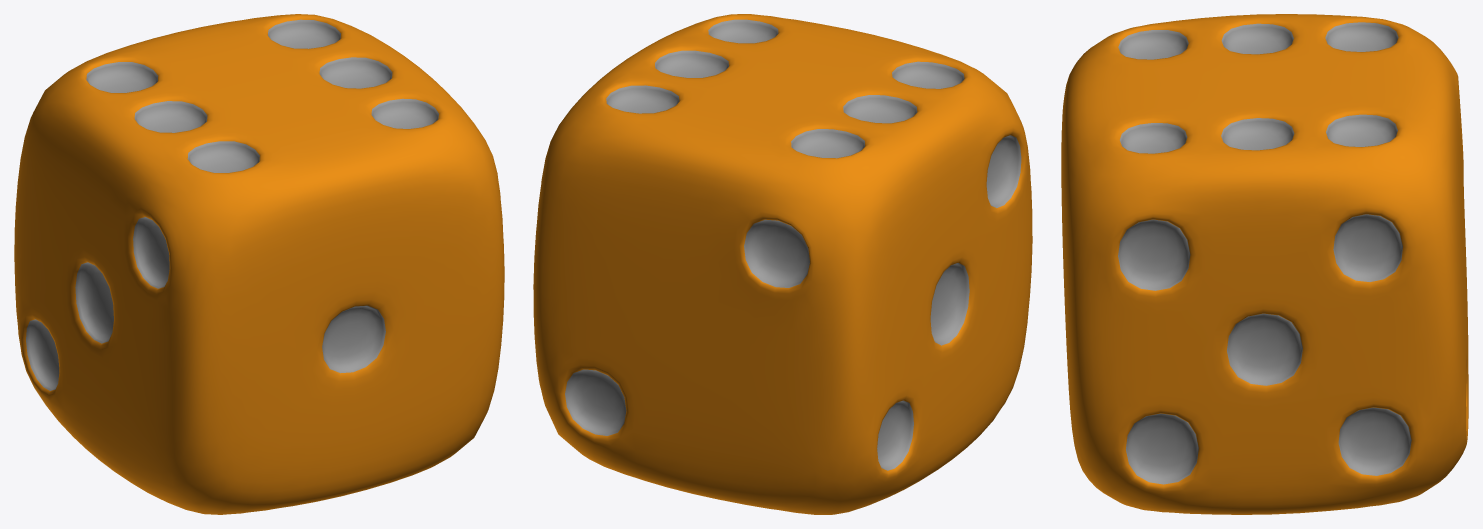
3 renders of one model, left to right at view 1: azimuth 30°, elevation 25°; view 2: azimuth 150°, elevation 25°; view 3: azimuth 270°, elevation 25°, orthographic. The views are drawn at different scales.
Parts seen in each view (by area): view 1: FREE_CASINO_CUBE_OBJ; view 2: FREE_CASINO_CUBE_OBJ; view 3: FREE_CASINO_CUBE_OBJ.
Boxes of the visible parts, <box> form: FREE_CASINO_CUBE_OBJ: <box>14,14,504,514</box>; FREE_CASINO_CUBE_OBJ: <box>533,14,1032,514</box>; FREE_CASINO_CUBE_OBJ: <box>1061,14,1468,514</box>.
Bounding box in the file's own units: 896 × 909 × 908.
